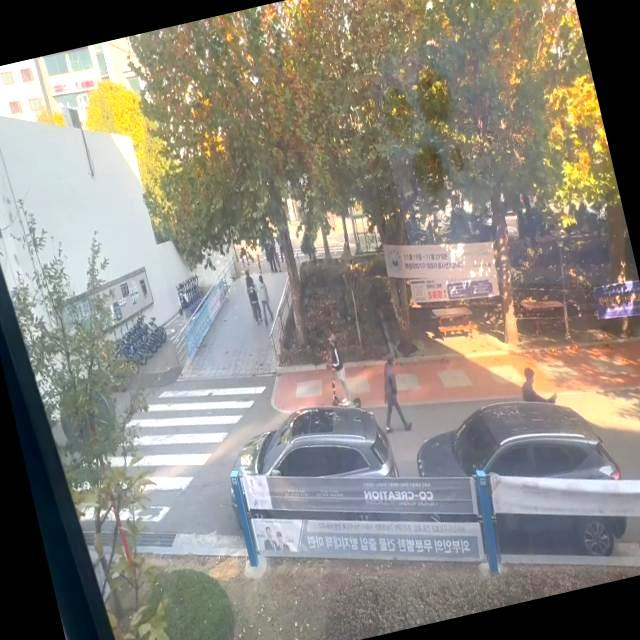bare_head: (324, 328, 341, 348)
human: (322, 328, 358, 399)
kickboard: (317, 393, 376, 411)
